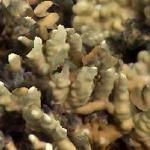alive: (6, 4, 145, 146)
